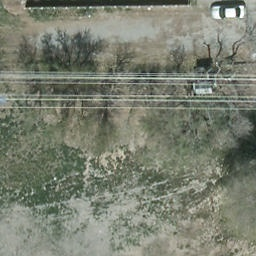car: (208, 2, 246, 20)
